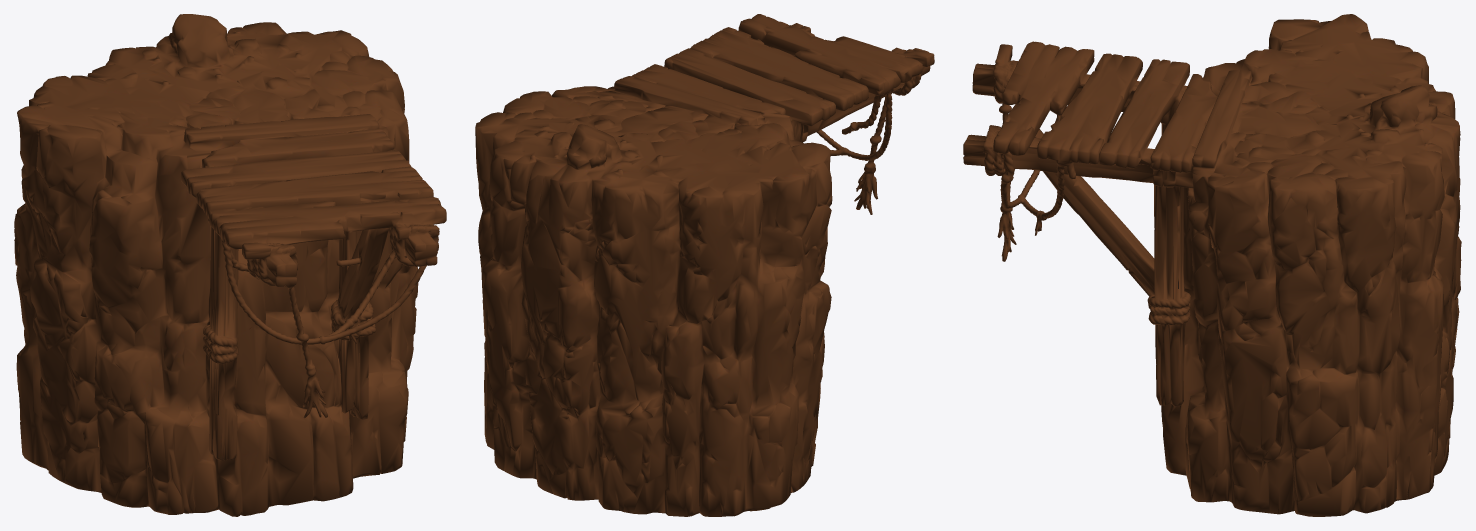
Rendered from puente_de_madera.glb.
The picture shows the model from 3 angles, left to right: view 1: azimuth 30°, elevation 25°; view 2: azimuth 150°, elevation 25°; view 3: azimuth 270°, elevation 25°; orthographic projection. The views are drawn at different scales.
Visible parts, largest first — view 1: puente_de_madera; view 2: puente_de_madera; view 3: puente_de_madera.
Part boxes in pixels (x1,y1,x2,y2): puente_de_madera: (14,14,446,516); puente_de_madera: (475,14,934,516); puente_de_madera: (963,14,1461,516).
Size of what is drawn, in the model's own units: 4.72 by 4.92 by 6.
Materials: 1 (1 with a texture image).
